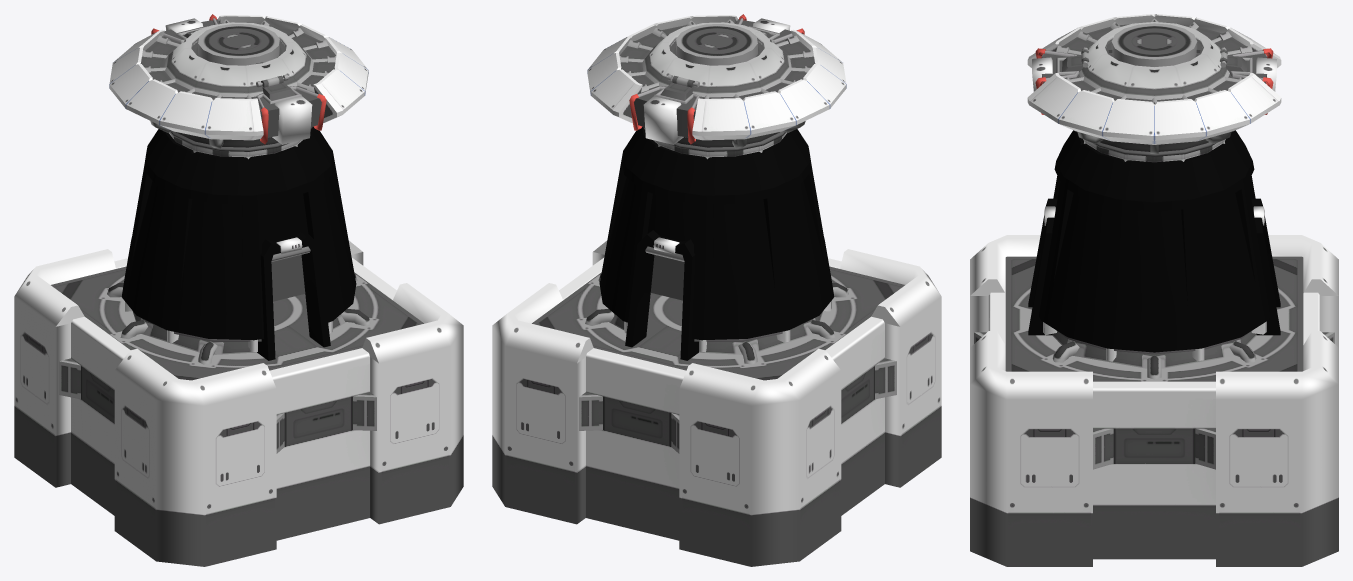
Rendered from smelter.glb.
3 renders of one model, left to right at view 1: azimuth 30°, elevation 25°; view 2: azimuth 150°, elevation 25°; view 3: azimuth 270°, elevation 25°, orthographic. The views are drawn at different scales.
Visible parts, largest first — view 1: smelter-b, smelter-a-4, smelter-a-3, smelter-a-1, smelter-c, smelter-a-2; view 2: smelter-b, smelter-a-1, smelter-a-4, smelter-a-2, smelter-c; view 3: smelter-b, smelter-a-2, smelter-a-3, smelter-a-1, smelter-a-4, smelter-c.
Part boxes in pixels (box(x1,y1,x2,y2)): smelter-b: box(51, 14, 423, 453); smelter-a-4: box(71, 316, 276, 566); smelter-a-3: box(269, 283, 463, 540); smelter-a-1: box(14, 249, 127, 487); smelter-c: box(198, 24, 279, 65); smelter-a-2: box(348, 240, 396, 299); smelter-b: box(532, 14, 904, 453); smelter-a-1: box(586, 348, 841, 566); smelter-a-4: box(825, 249, 941, 515); smelter-a-2: box(492, 257, 604, 524); smelter-c: box(676, 24, 757, 65); smelter-b: box(974, 14, 1334, 469); smelter-a-2: box(1093, 331, 1338, 566); smelter-a-3: box(970, 292, 1092, 566); smelter-a-1: box(1268, 235, 1338, 347); smelter-a-4: box(970, 235, 1040, 347); smelter-c: box(1108, 23, 1200, 66).
Bounding box in the file's own units: 3 × 4.02 × 3.
Materials: 1 (1 with a texture image).
